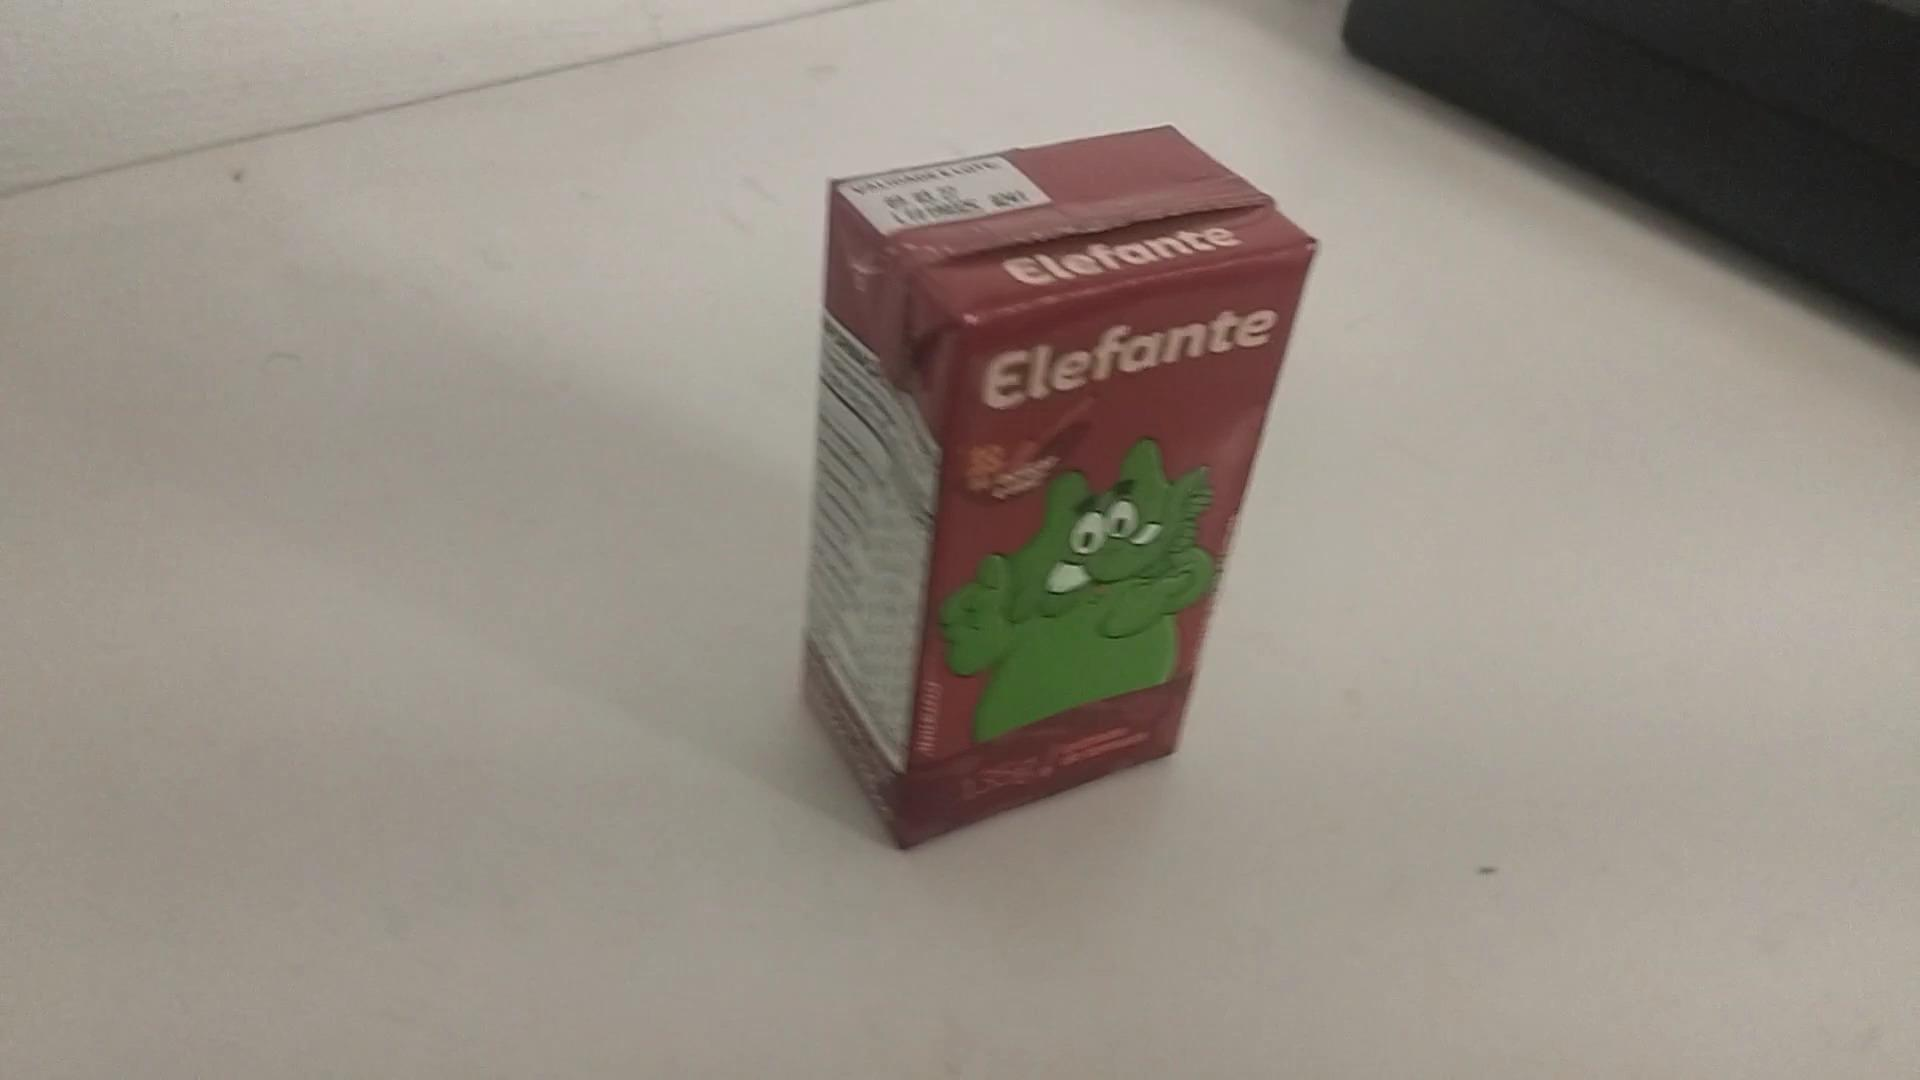tomate: (790, 104, 1329, 848)
